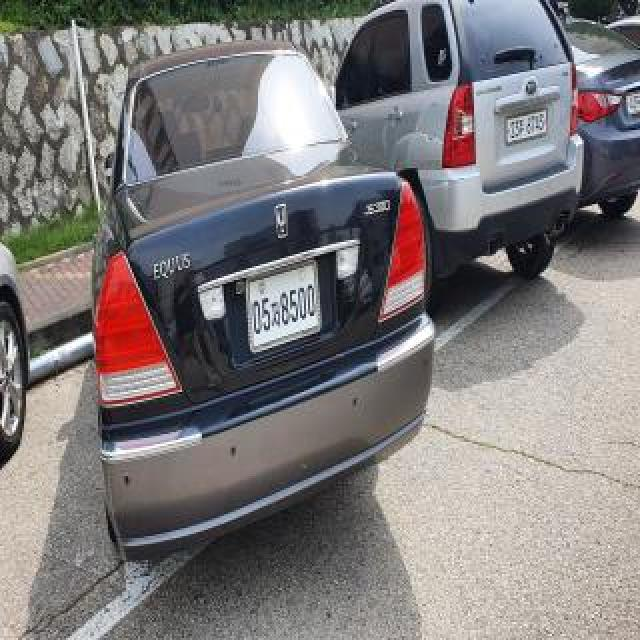car: (84, 36, 444, 566)
illegal_plate: (248, 261, 323, 356)
